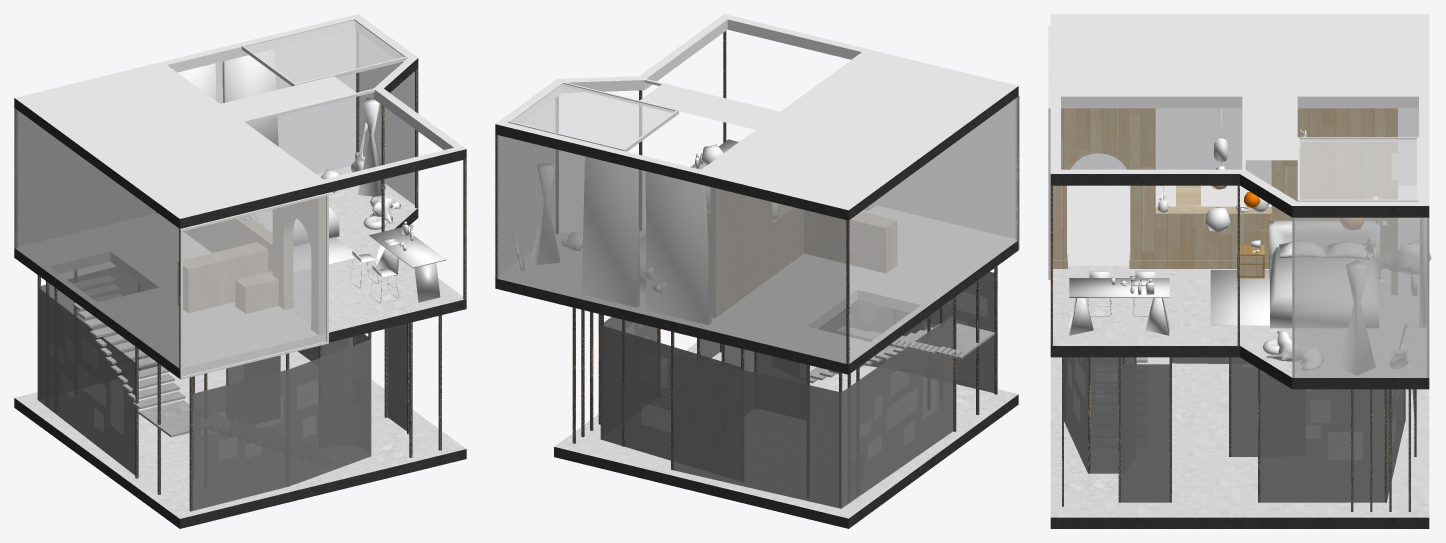
The model's file is house.dae.
3 views of the same model, side by side, from view 1: azimuth 30°, elevation 25°; view 2: azimuth 150°, elevation 25°; view 3: azimuth 270°, elevation 25° (orthographic). The views are drawn at different scales.
Parts seen in each view (by area): view 1: group_41 (×3), group_38 (×4), group_40 (×3), group_39 (×7), group_0 (×2), group_37, SketchUp (×4), Curtain_009 (×2), Desk_008 (×2), 组件_2, Clothes_Rack_003, Rug_020 (+6 smaller); view 2: group_41 (×2), group_38 (×4), SketchUp (×7), group_40 (×3), Curtain_009 (×2), group_37, group_0 (×2), group_39 (×2), Clothes_Rack_003, 组件_2; view 3: group_38 (×4), group_41 (×2), group_40 (×3), group_0 (×2), group_37, SketchUp (×5), group_39 (×3), Bed_008__197_x_249_cm__77_x_98_in_ (×4), Desk_008 (×3), Rug_020, Clothes_Rack_003, Dog_010__Laying (+6 smaller).
Part boxes in pixels (box(x1,y1,x2,y2)): group_41 (×3): box(14, 30, 414, 379); group_38 (×4): box(14, 14, 466, 228); group_40 (×3): box(14, 166, 466, 378); group_39 (×7): box(192, 323, 406, 510); group_0 (×2): box(14, 351, 466, 528); group_37: box(178, 197, 325, 334); SketchUp (×4): box(37, 267, 137, 475); Curtain_009 (×2): box(153, 49, 278, 213); Desk_008 (×2): box(369, 227, 446, 302); 组件_2: box(138, 400, 189, 437); Clothes_Rack_003: box(358, 98, 385, 196); Rug_020: box(293, 237, 358, 272); group_41 (×2): box(497, 96, 1019, 363); group_38 (×4): box(495, 14, 1018, 220); SketchUp (×7): box(600, 315, 953, 508); group_40 (×3): box(495, 204, 1018, 374); Curtain_009 (×2): box(582, 157, 711, 324); group_37: box(707, 187, 896, 317); group_0 (×2): box(554, 342, 1018, 528); group_39 (×2): box(725, 271, 994, 392); Clothes_Rack_003: box(532, 163, 559, 264); 组件_2: box(956, 323, 994, 359); group_38 (×4): box(1050, 14, 1429, 217); group_41 (×2): box(1048, 25, 1429, 377); group_40 (×3): box(1050, 185, 1429, 389); group_0 (×2): box(1050, 357, 1429, 528); group_37: box(1053, 108, 1397, 294); SketchUp (×5): box(1260, 375, 1405, 502); group_39 (×3): box(1064, 357, 1268, 502); Bed_008__197_x_249_cm__77_x_98_in_ (×4): box(1269, 220, 1379, 328); Desk_008 (×3): box(1069, 278, 1169, 335); Rug_020: box(1210, 270, 1269, 325); Clothes_Rack_003: box(1339, 260, 1375, 374); Dog_010__Laying: box(1266, 330, 1323, 370).
Size of the model in its own units: 284 by 239 by 245.
